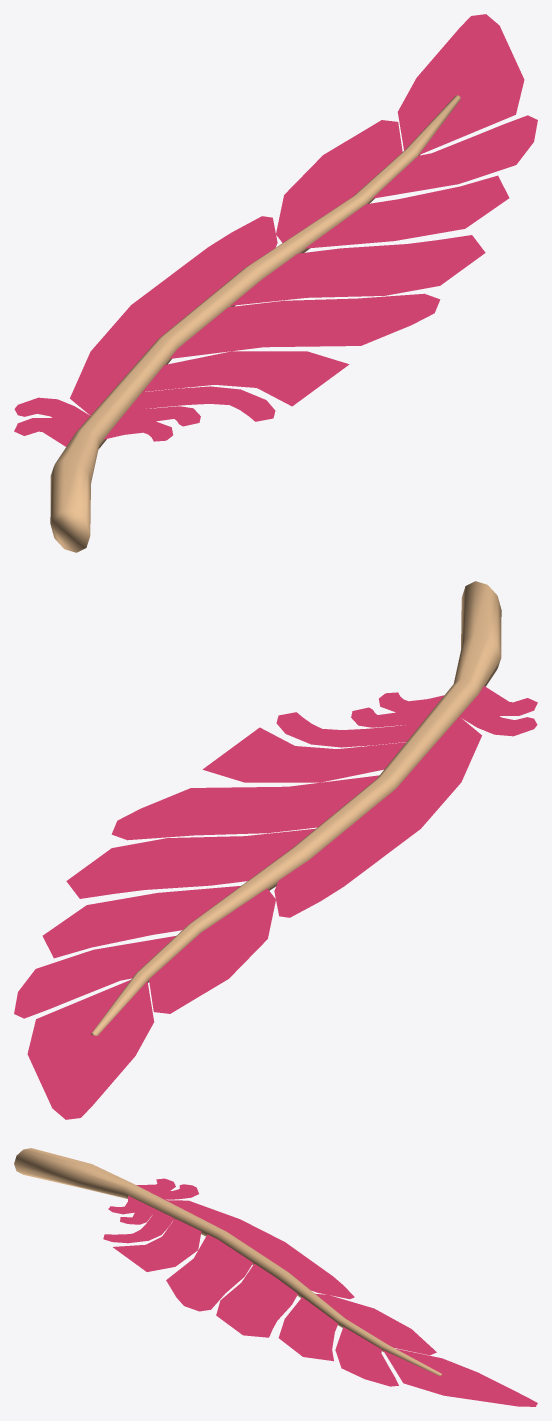
The model's file is Feather.fbx.
3 views of the same model, one above another, from view 1: azimuth 30°, elevation 25°; view 2: azimuth 210°, elevation 25°; view 3: azimuth 270°, elevation 25° (orthographic). The views are drawn at different scales.
Visible parts, largest first — view 1: Plane.006, Cylinder; view 2: Plane.006, Cylinder; view 3: Plane.006, Cylinder.
Part boxes in pixels (<box>): Plane.006: <box>14,14,537,446</box>; Cylinder: <box>50,95,460,552</box>; Plane.006: <box>14,686,537,1119</box>; Cylinder: <box>91,581,501,1035</box>; Plane.006: <box>103,1178,537,1406</box>; Cylinder: <box>14,1148,442,1375</box>.
Size of the model in its own units: 143 by 6.75 by 127.
